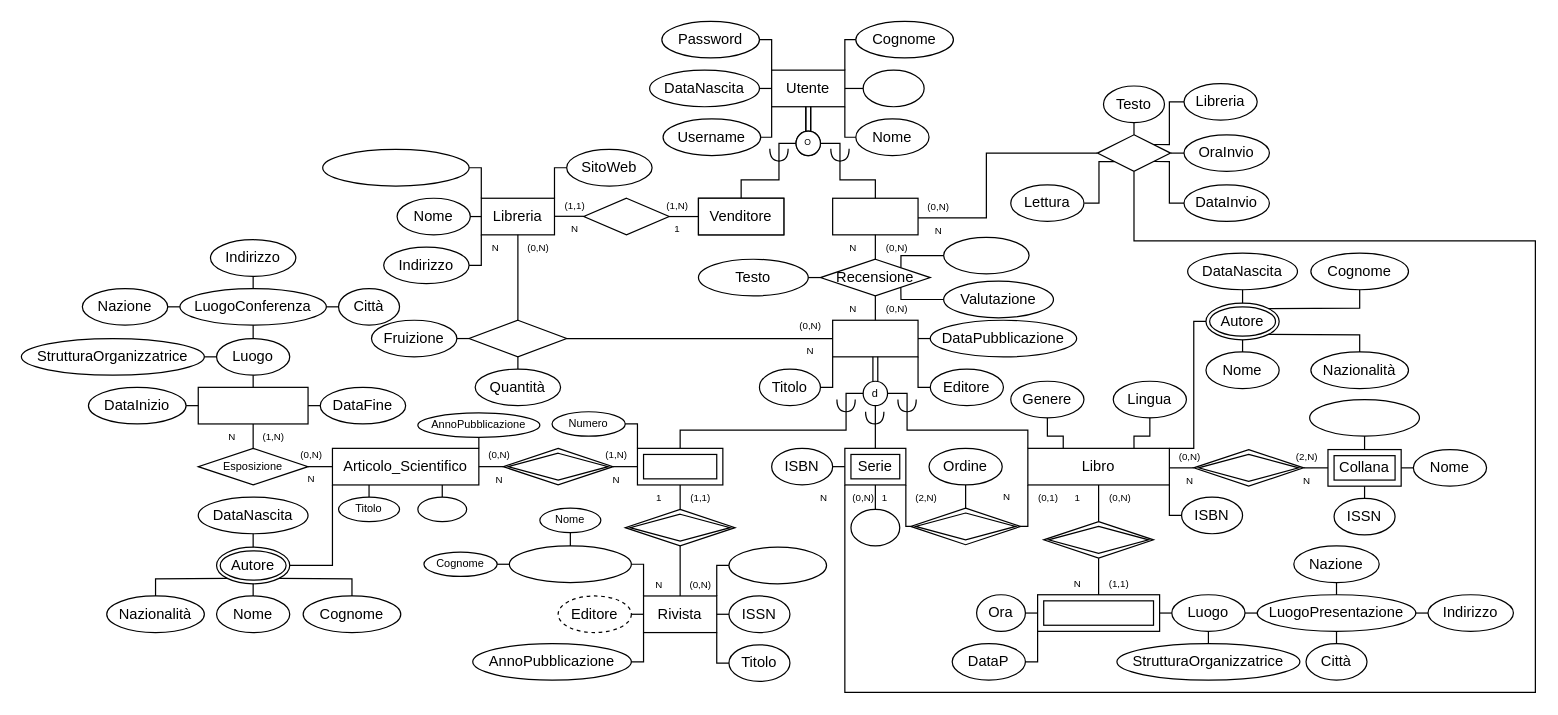
The diagram is 1558 pixels wide and 715 high, and some of its shapes have lost their labels. The centre of each missing label's shape, as x and y in pixels:
"Appartenenza" belongs at point (1248, 467).
"Argomento" belongs at point (777, 565).
"Caratteristica" belongs at point (1363, 417).
"Composizione" belongs at point (679, 527).
"Conferenza" belongs at point (252, 405).
"Doi" belongs at point (442, 509).
"Elemento" belongs at point (874, 338).
"Email" belongs at point (893, 88).
"Fascicolo" belongs at point (679, 466).
"Gestione" belongs at point (626, 216).
"Inserimento" belongs at point (965, 526).
"Introduzione" belongs at point (557, 466).
"NLibri" belongs at point (875, 527).
"Notifica" belongs at point (1133, 152).
"NumeroTelefonico" belongs at point (395, 167).
"Partecipazione" belongs at point (1098, 539).
"Possesso" belongs at point (517, 338).
"Preferito" belongs at point (985, 255).
"Presentazione" belongs at point (1098, 612).
"Responsabile" belongs at point (569, 564).
"Standard" belongs at point (874, 216).
